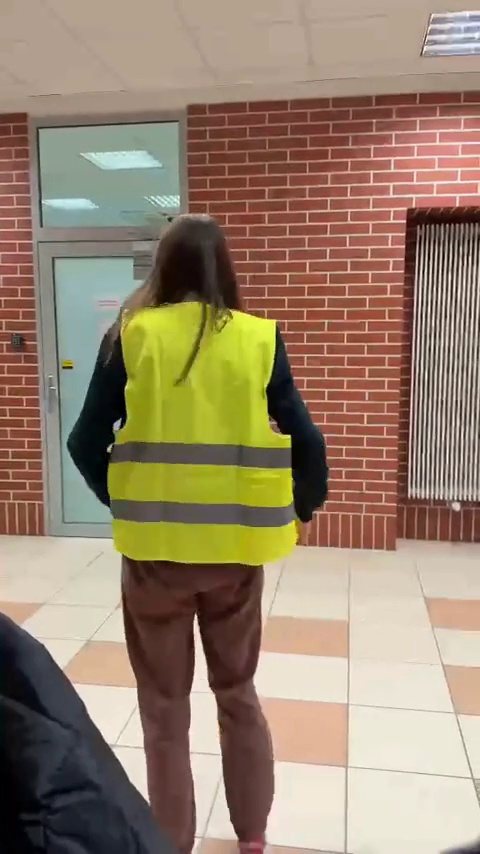vest: (75, 212, 321, 846)
